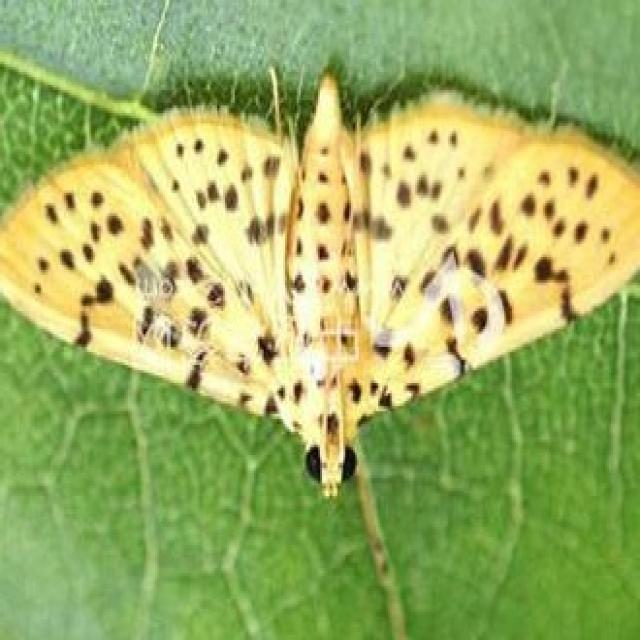peach borer: (1, 60, 640, 502)
